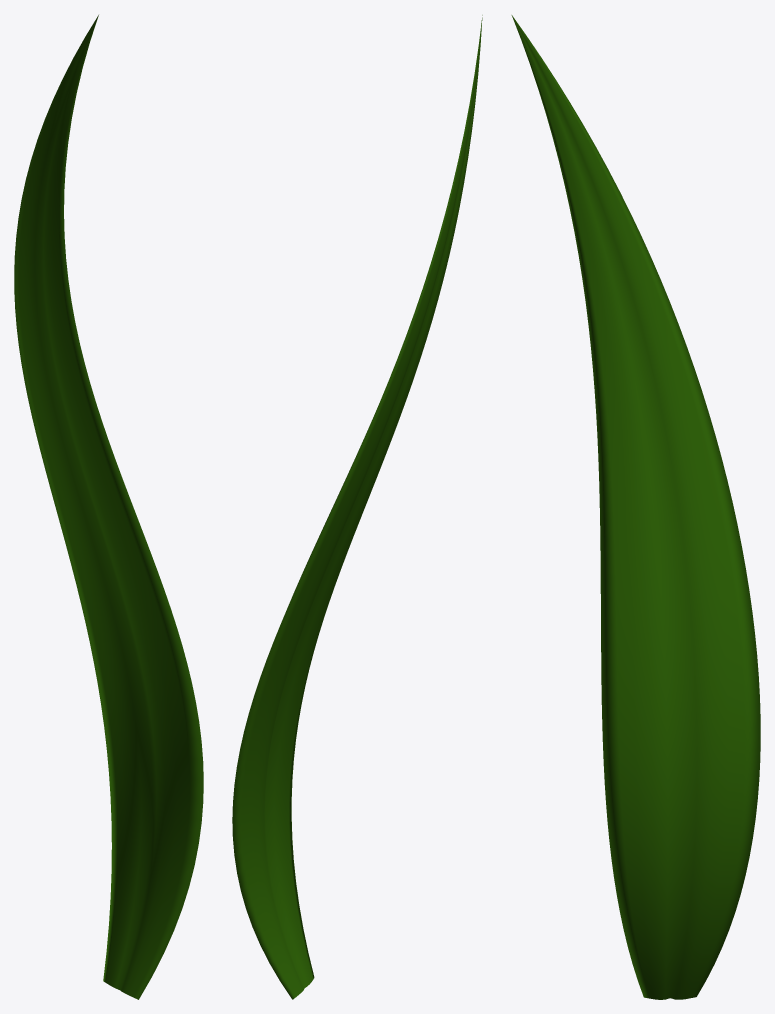
3 renders of one model, left to right at view 1: azimuth 30°, elevation 25°; view 2: azimuth 150°, elevation 25°; view 3: azimuth 270°, elevation 25°, orthographic. The views are drawn at different scales.
Parts seen in each view (by area): view 1: ТраекторияNurbs.023; view 2: ТраекторияNurbs.023; view 3: ТраекторияNurbs.023.
Boxes of the visible parts, <box> form: ТраекторияNurbs.023: <box>14,15,203,999</box>; ТраекторияNurbs.023: <box>232,15,482,999</box>; ТраекторияNurbs.023: <box>511,15,760,999</box>.
Size of the model in its own units: 37.13 by 213 by 51.44.
